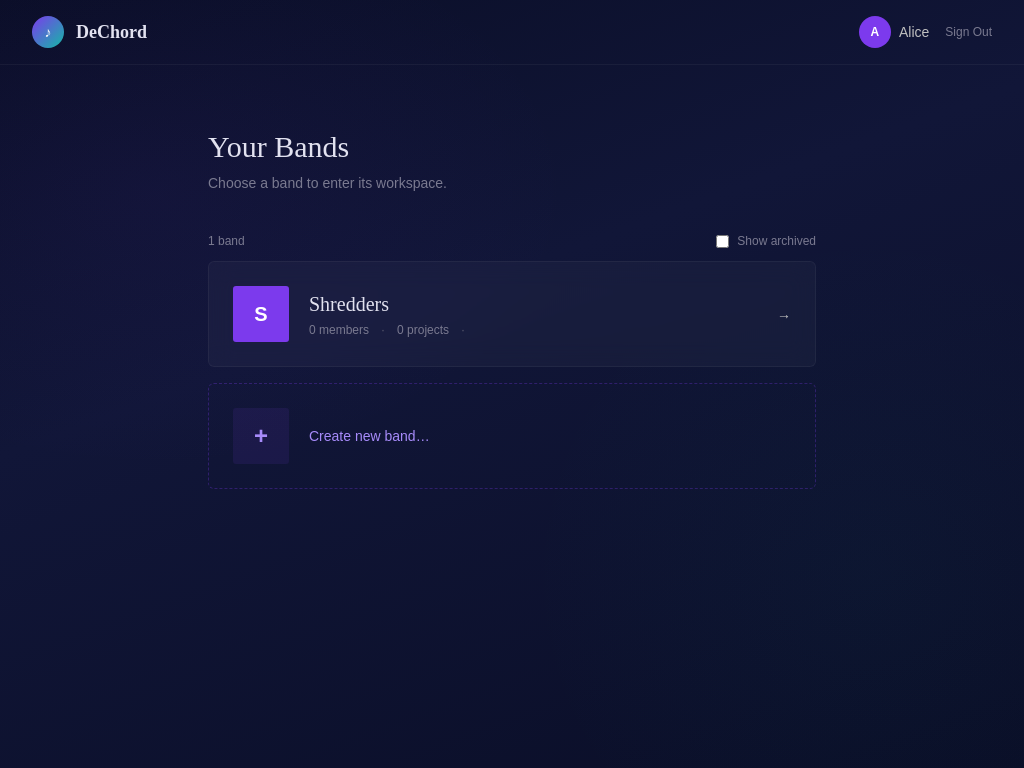
BandSelectPage — additional band creation › Save Band button is disabled while a save is in flight
Click the text "Create new band…": (369, 436) [309,426,430,446]
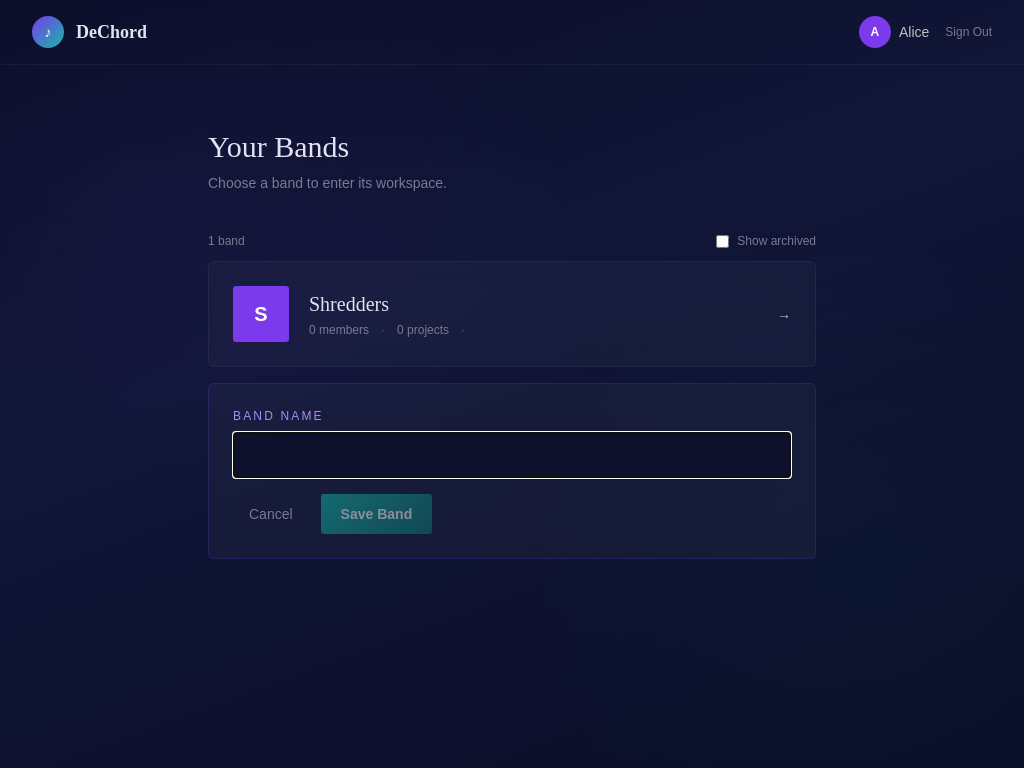
In the field labelled "Band Name": (512, 455) [233,432,791,478], type "New Band"
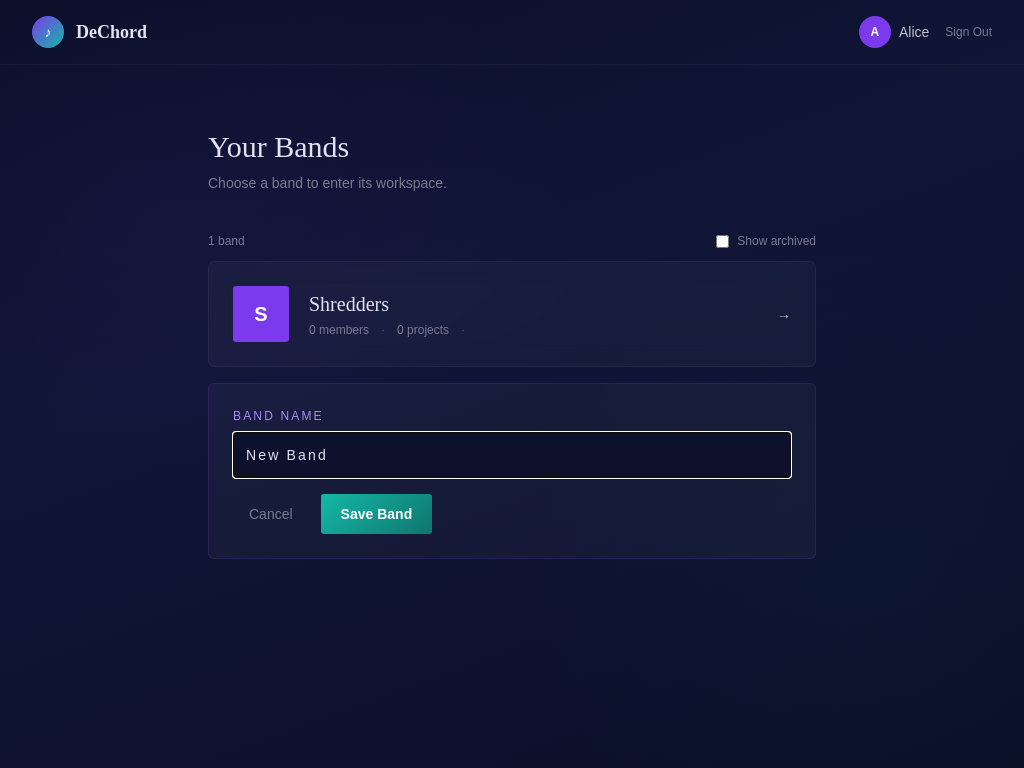
Click the button "Save Band": (376, 514) [321,494,432,534]
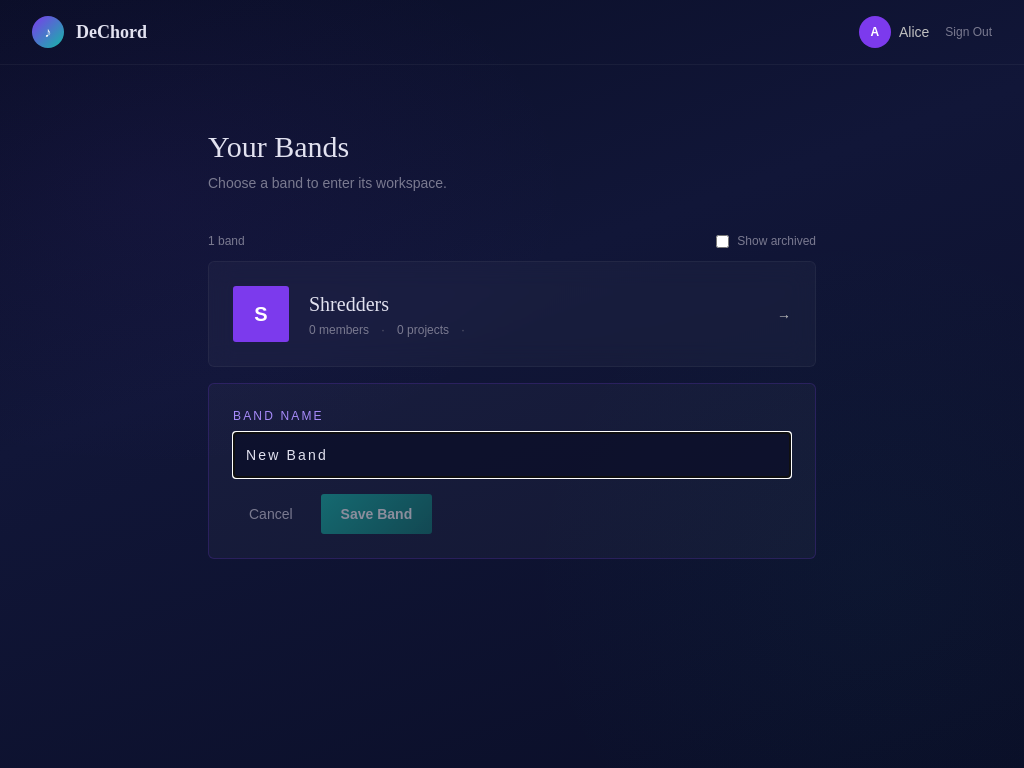
Check: the button "Save Band" is disabled, box [321,494,432,534]
